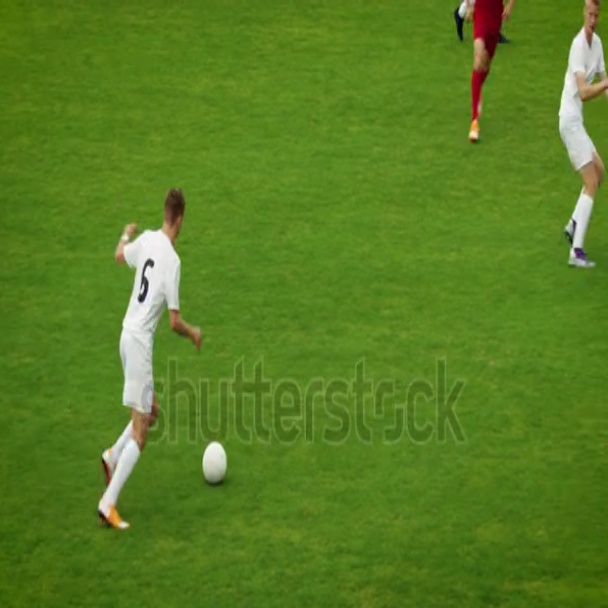ball: (198, 439, 230, 488)
